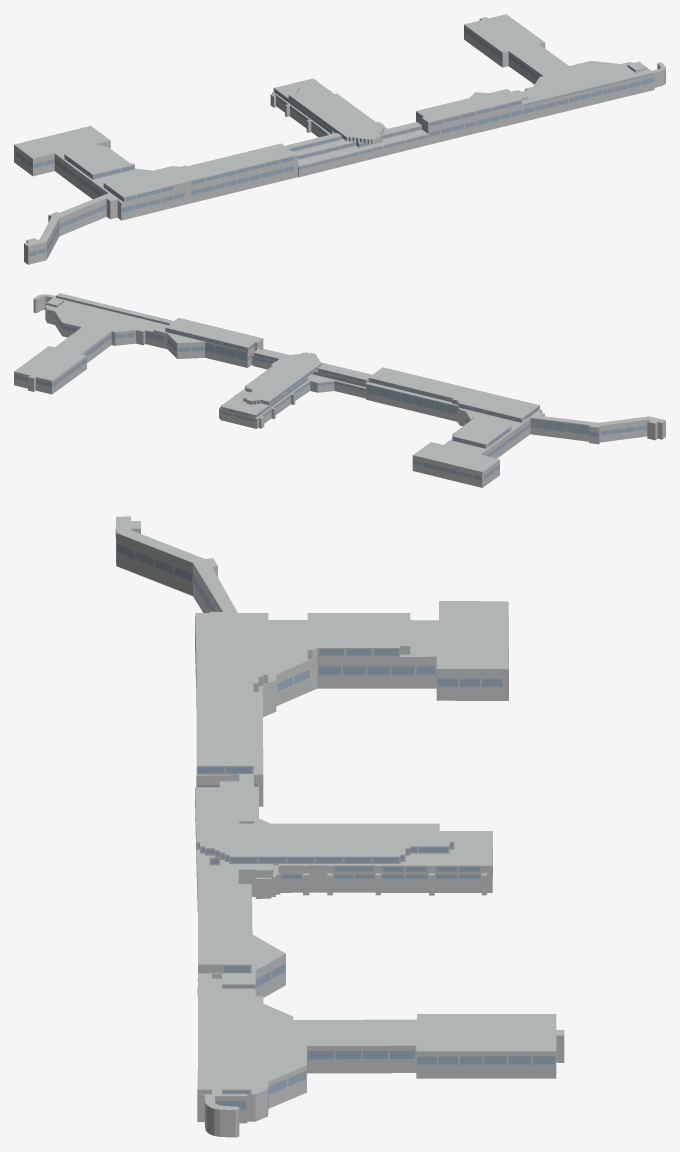
The model's file is la-lax-terminals-1-3.glb.
The picture shows the model from 3 angles, top to bottom: view 1: azimuth 30°, elevation 25°; view 2: azimuth 150°, elevation 25°; view 3: azimuth 270°, elevation 25°; orthographic projection. The views are drawn at different scales.
Parts seen in each view (by area): view 1: LAX Terminals 1-3; view 2: LAX Terminals 1-3; view 3: LAX Terminals 1-3.
Part boxes in pixels (<box>): LAX Terminals 1-3: <box>14,14,665,264</box>; LAX Terminals 1-3: <box>14,293,665,487</box>; LAX Terminals 1-3: <box>115,516,564,1137</box>.
Size of the model in its own units: 853 by 27.5 by 275.
